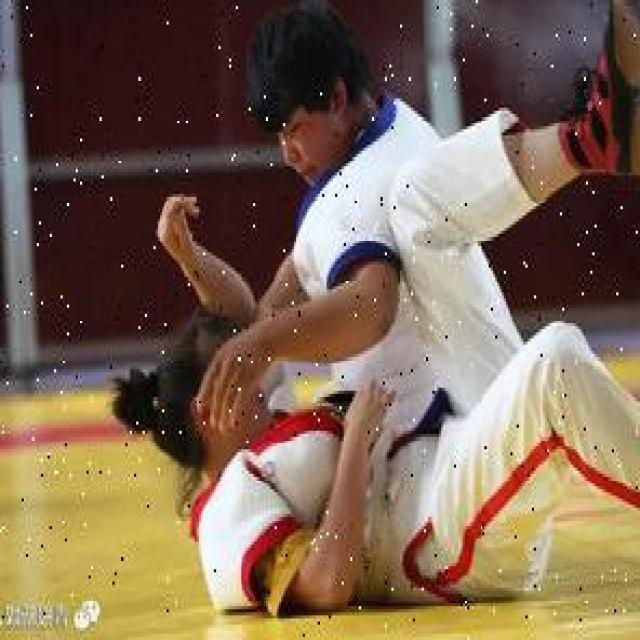fall: (154, 194, 588, 597)
